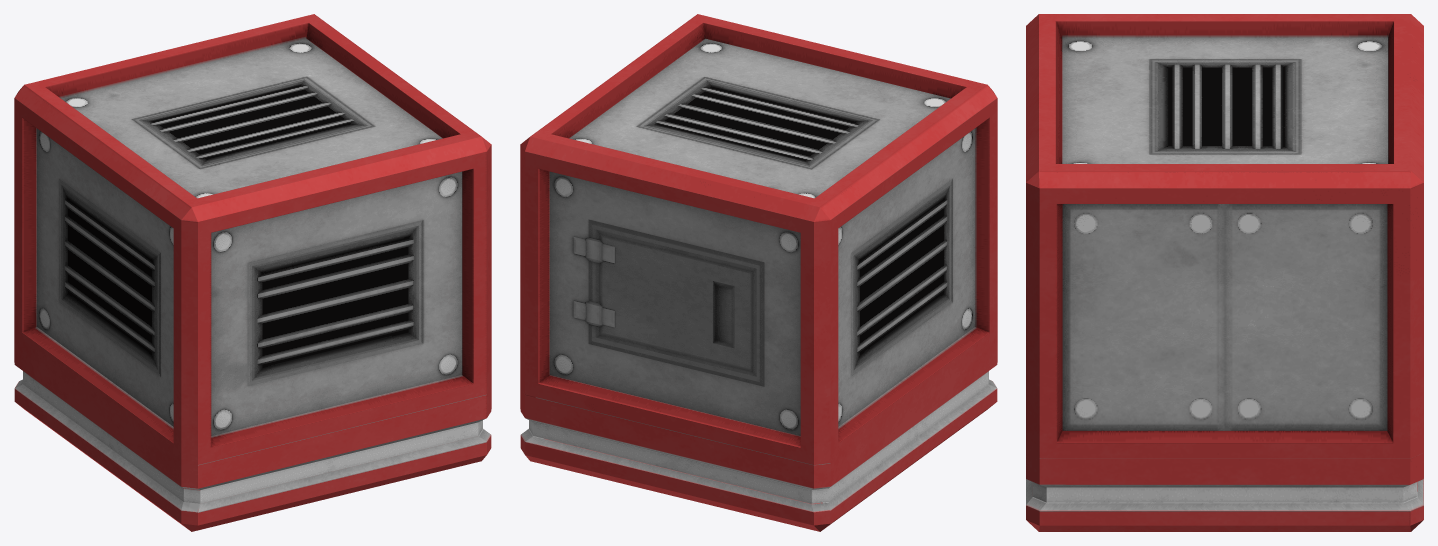
File: prop-box.fbx
3 renders of one model, left to right at view 1: azimuth 30°, elevation 25°; view 2: azimuth 150°, elevation 25°; view 3: azimuth 270°, elevation 25°, orthographic. The views are drawn at different scales.
Parts seen in each view (by area): view 1: prop-box; view 2: prop-box; view 3: prop-box.
Part boxes in pixels (bbox=[...]): prop-box: bbox=[14, 14, 491, 531]; prop-box: bbox=[520, 14, 997, 531]; prop-box: bbox=[1026, 14, 1423, 531].
Bounding box in the file's own units: 85.58 × 85.58 × 85.58.
Materials: 1 (1 with a texture image).
